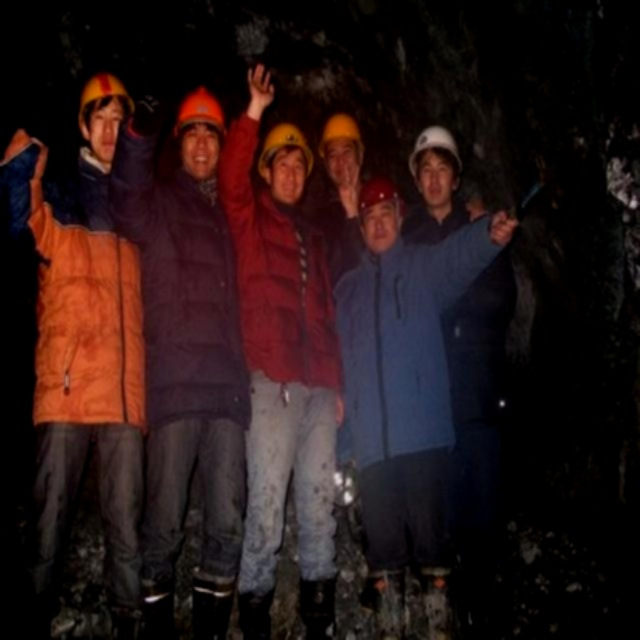Con_Casco: (76, 72, 135, 163), (408, 127, 463, 207), (321, 112, 363, 184)
